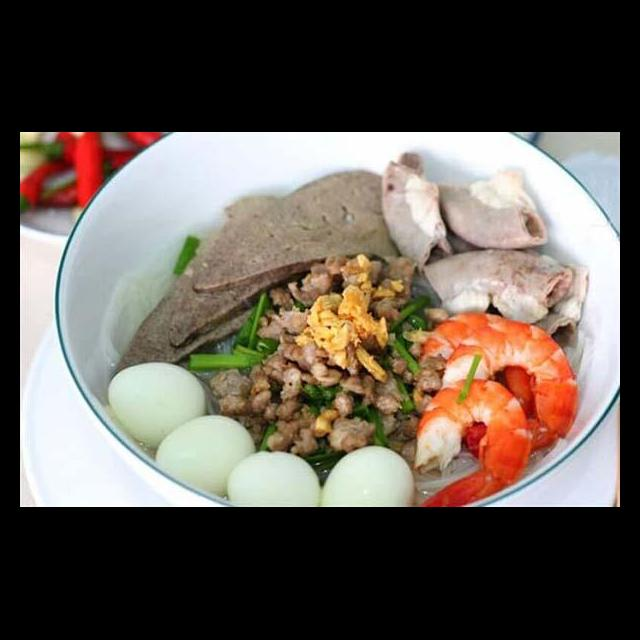gan: (185, 164, 411, 304), (102, 266, 271, 400), (163, 240, 311, 356)
thit bam: (201, 246, 453, 459)
tom: (435, 316, 584, 464), (414, 308, 549, 464), (406, 376, 539, 508)
trung: (103, 358, 211, 452), (149, 410, 258, 502), (317, 442, 419, 508), (222, 444, 326, 508)
